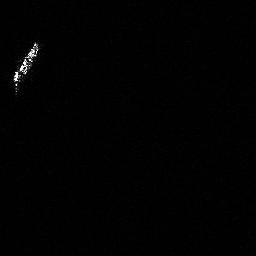ship: (9, 38, 43, 96)
